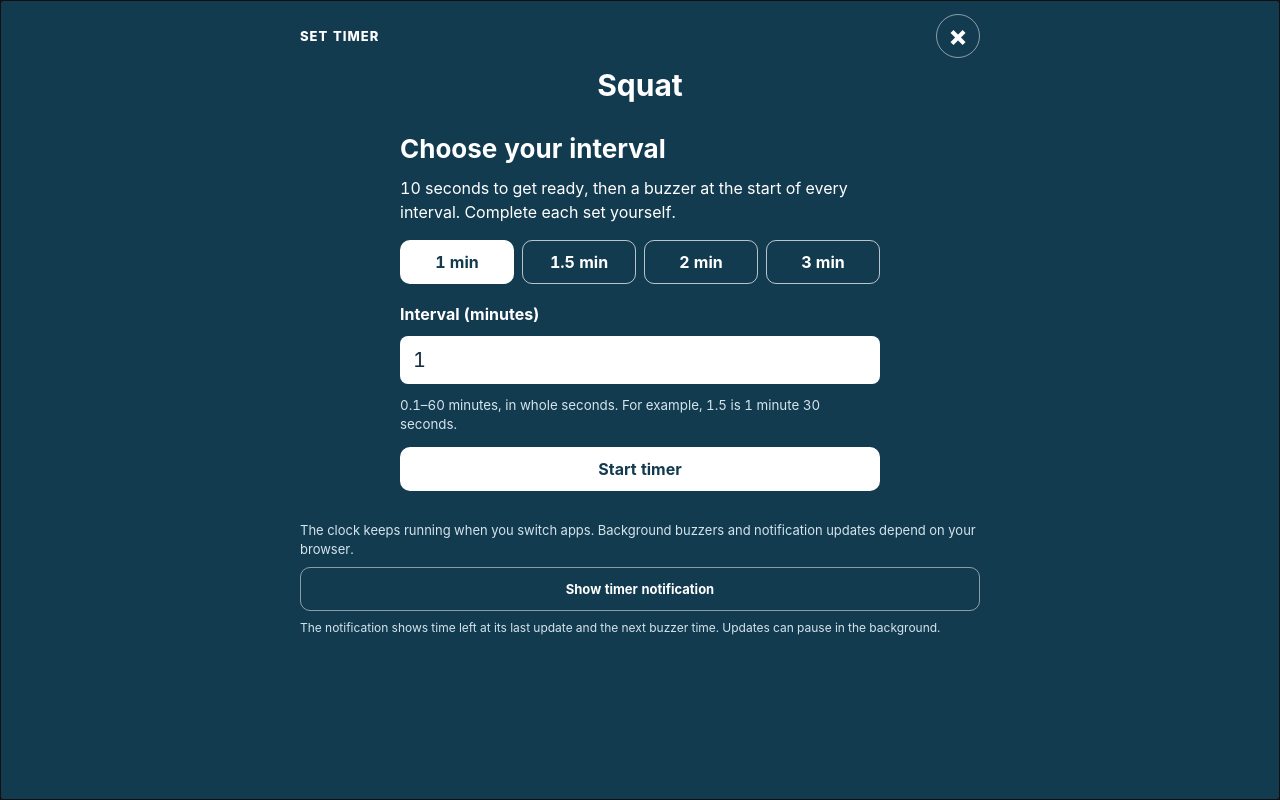
Scenario: rejects an invalid custom interval 0
The image size is (1280, 800).
Replace the text in the number field with id "set-timer-minutes" with "0". click: (640, 360)
box: [400,336,880,384]
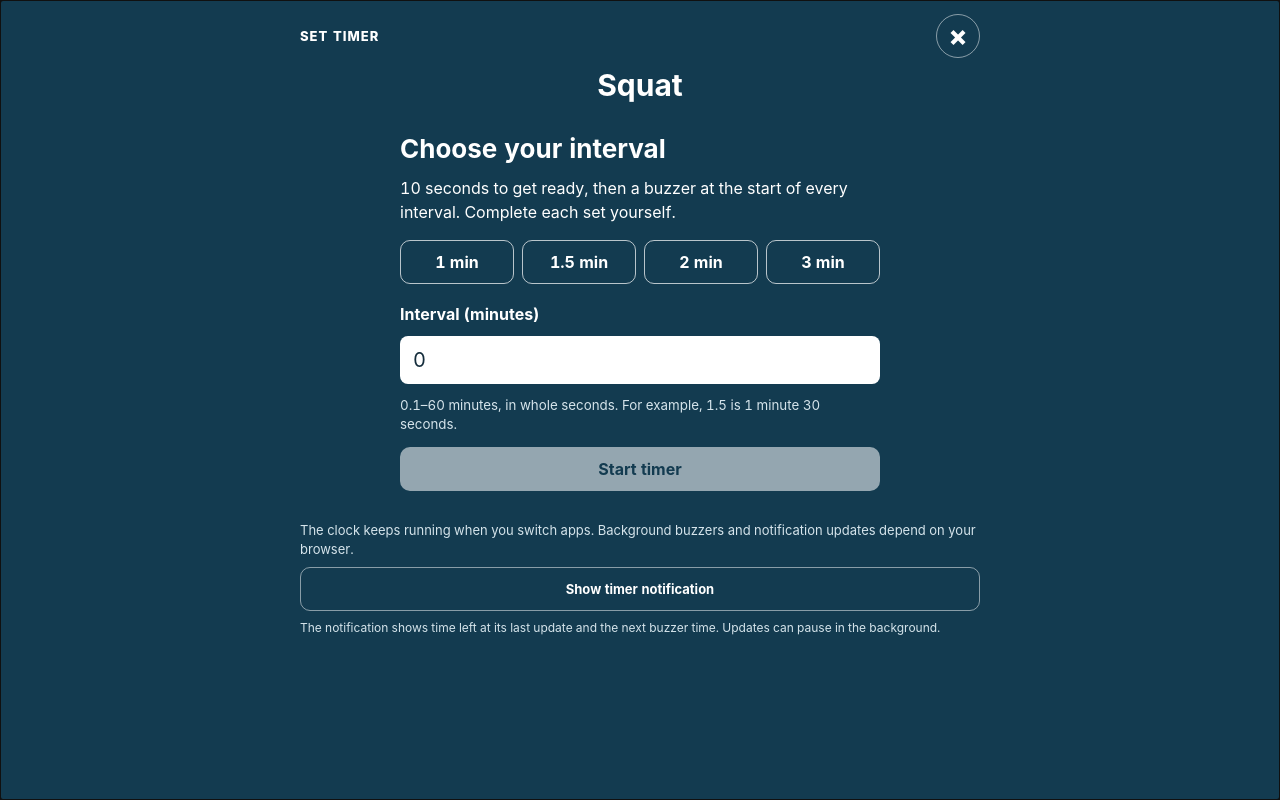
Expected: the button "Start timer" is disabled, [400,448,880,492]
